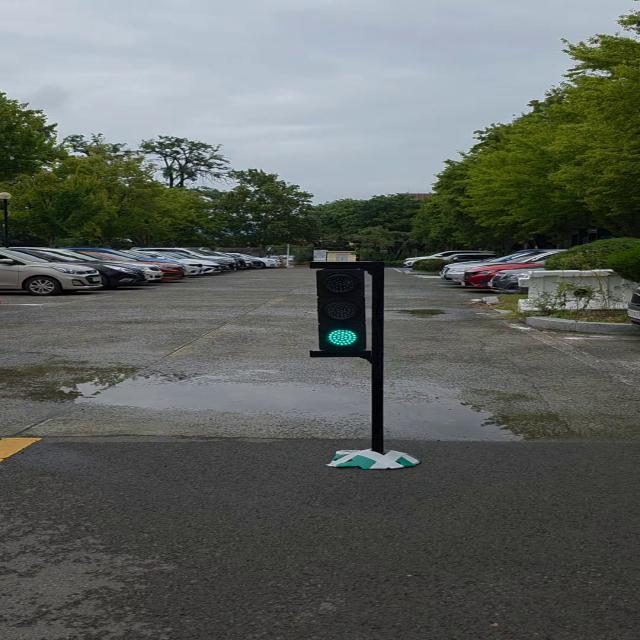green: (313, 264, 379, 354)
